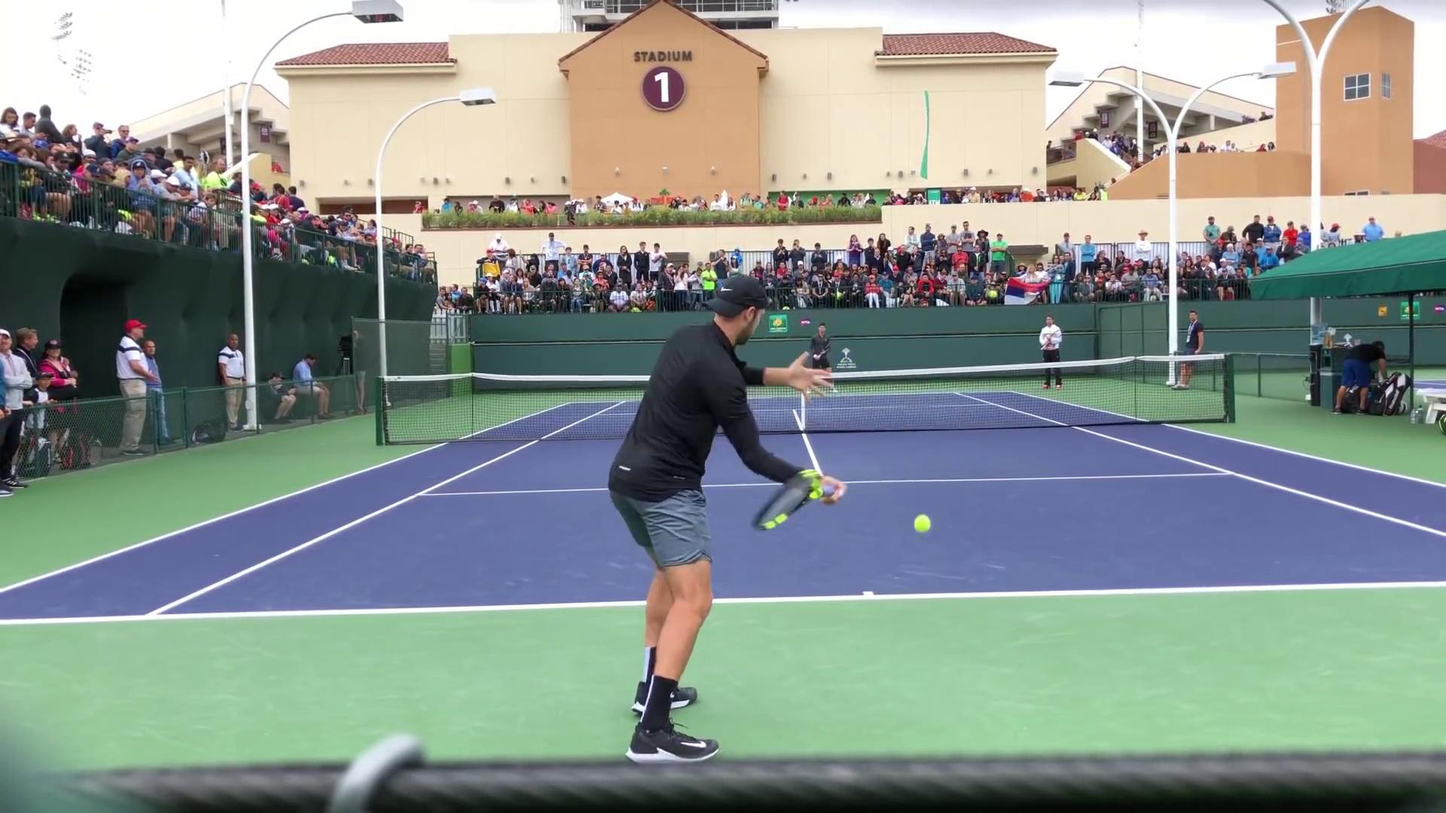ball: (912, 514, 932, 533)
